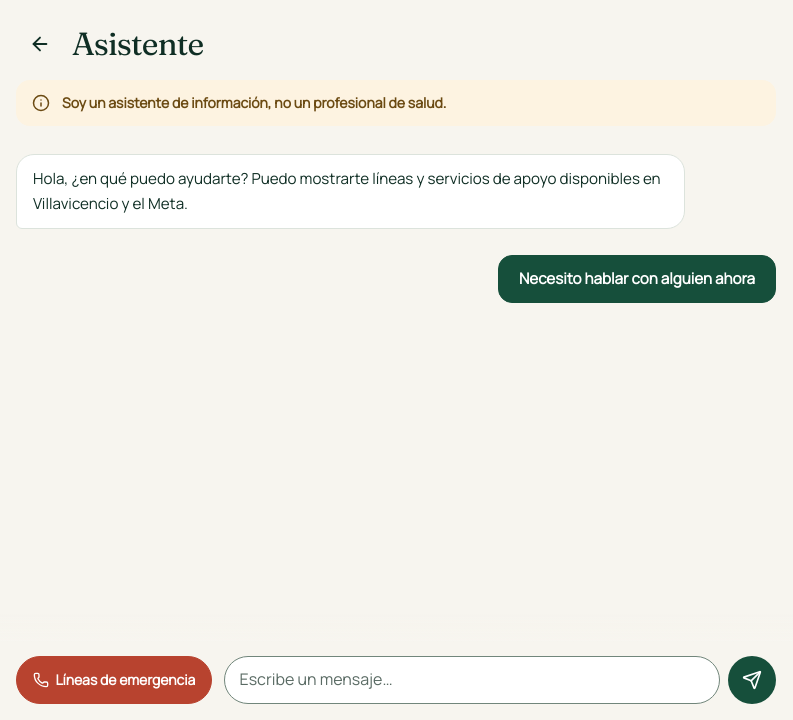
Scenario: asistente › CP-07: envía el mensaje y muestra la respuesta con tarjetas de servicios
Type "Perdí a mi abuela" into the field labelled "Escribe un mensaje". click: coordinates (472, 680)
box: [224,656,720,704]
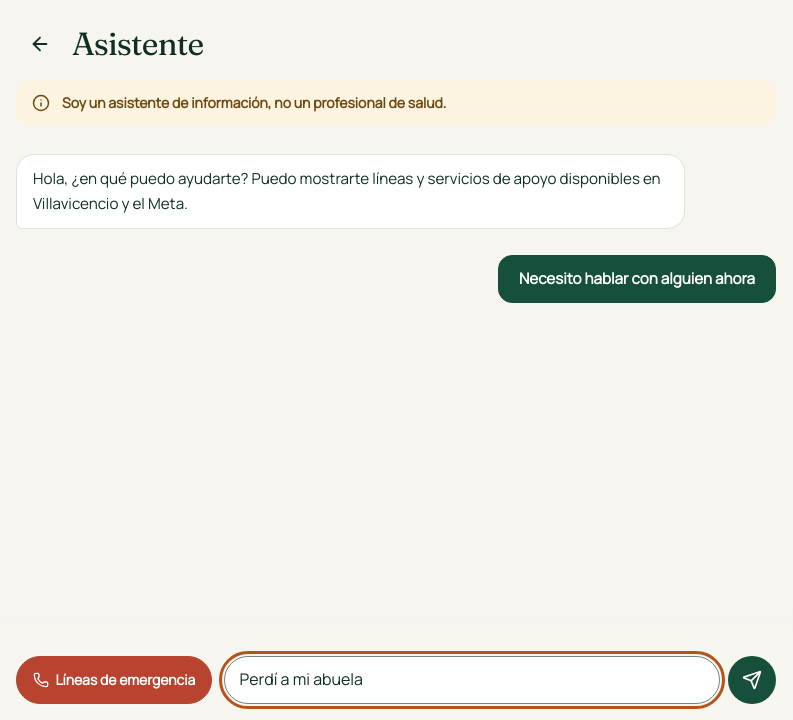
Click the button named "Enviar mensaje". click: coordinates (752, 680)
box: [728,656,776,704]
(page scrolled)
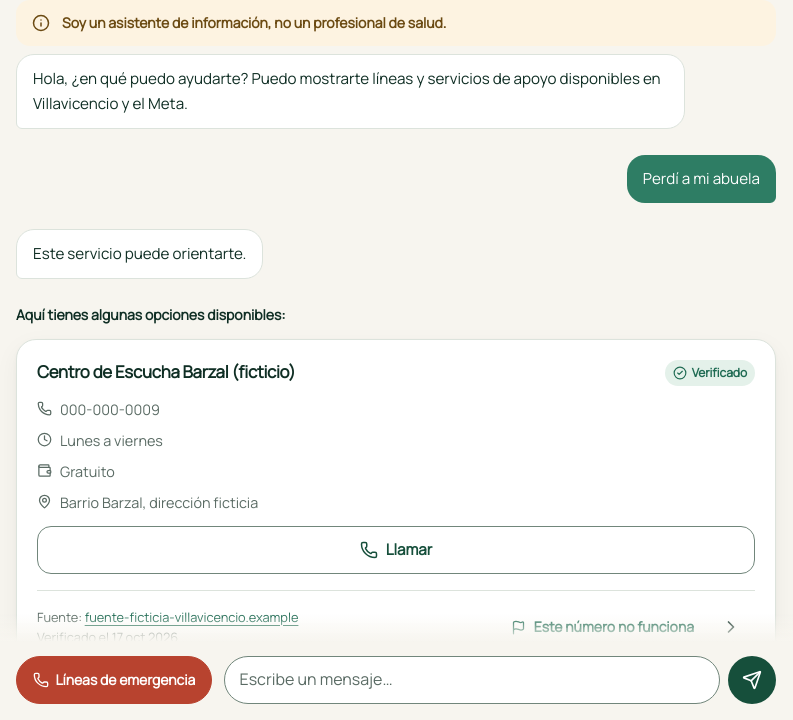
Expected: the text "Este servicio puede orientarte." is shown, [16,228,263,279]
Expected: the heading "Centro de Escucha Barzal (ficticio)" is shown, [37,360,296,383]
